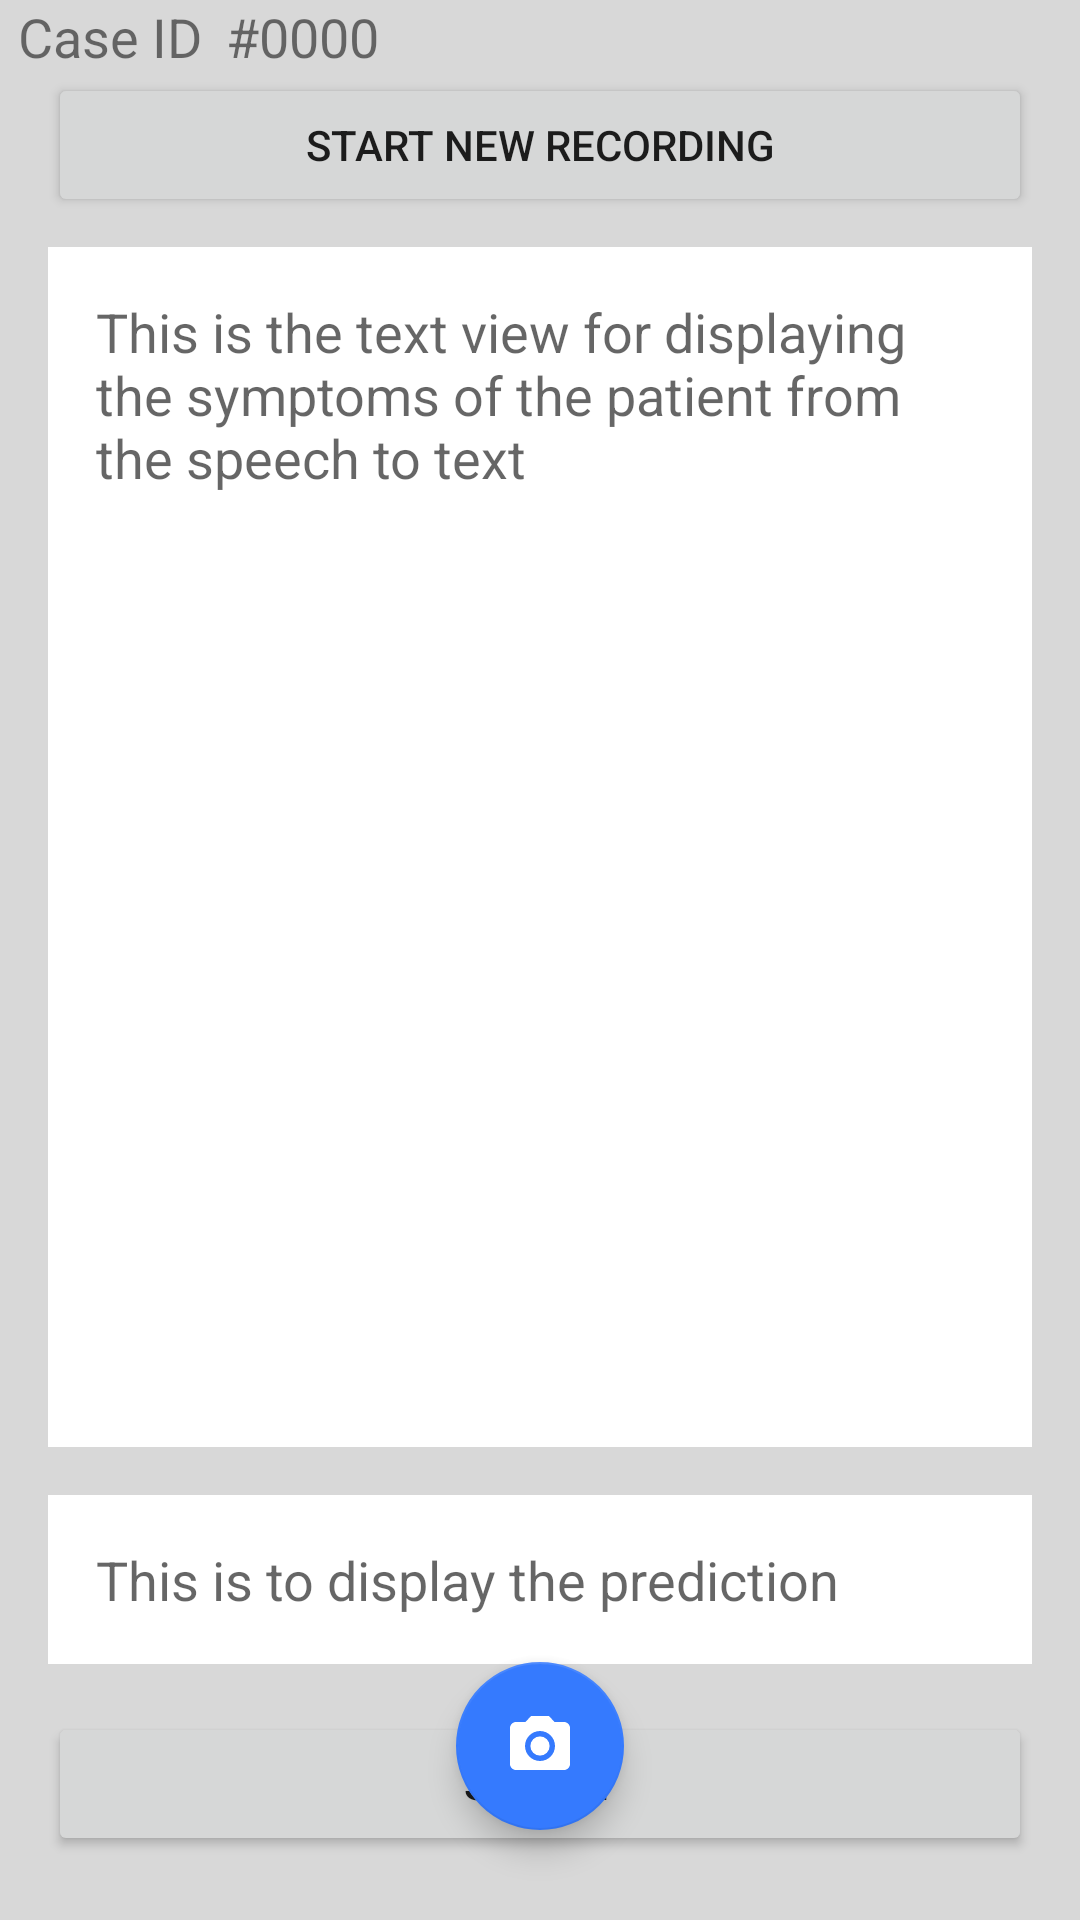

Screen size 1080 x 1920. Icon name, then its center in pixels as point (x, y):
camera: point (540, 1746)
